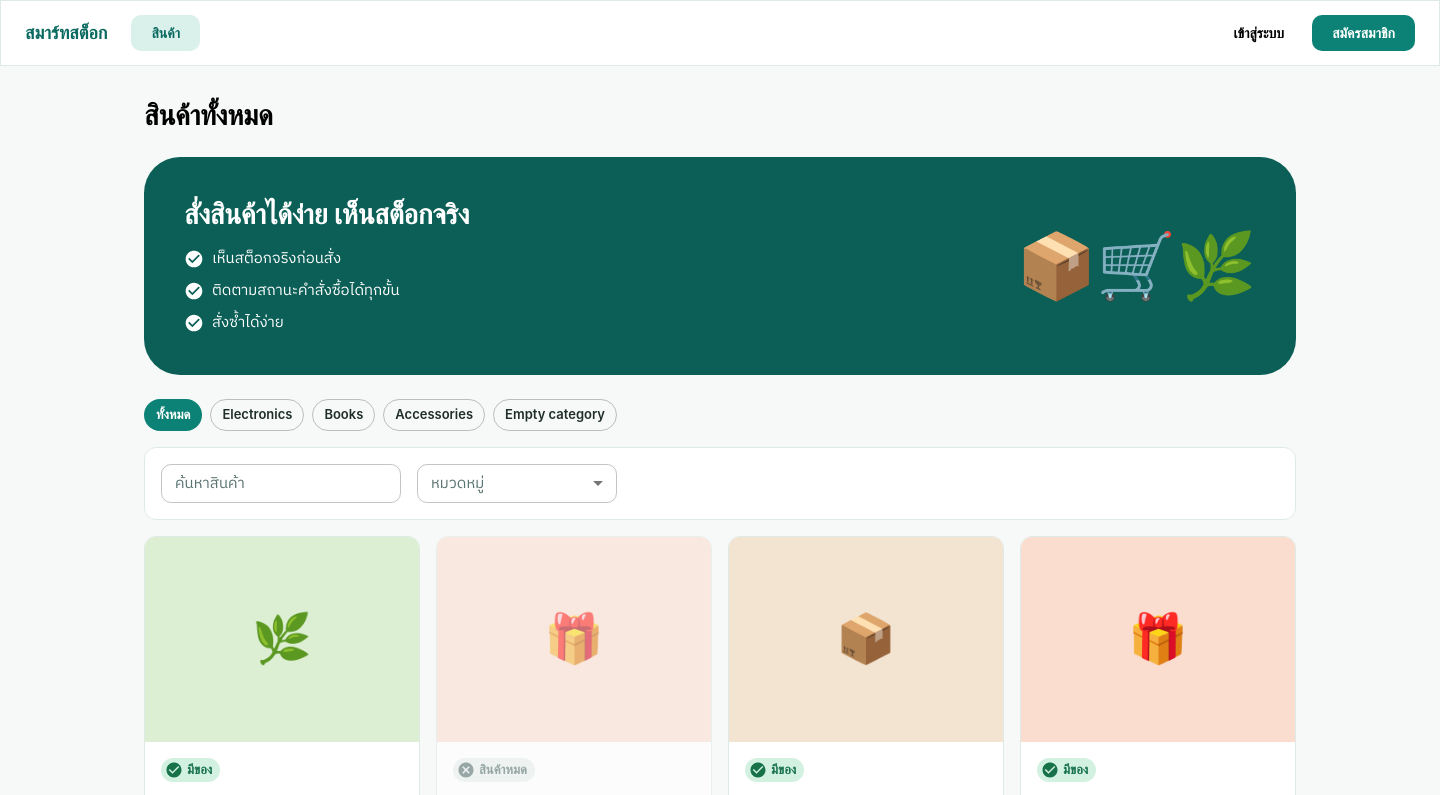
search resets the page to 1 and writes q to the URL
This screenshot has width=1440, height=795.
Type "mouse" into the field labelled "ค้นหาสินค้า". click: point(281, 484)
box: [161,464,401,503]
(page scrolled)
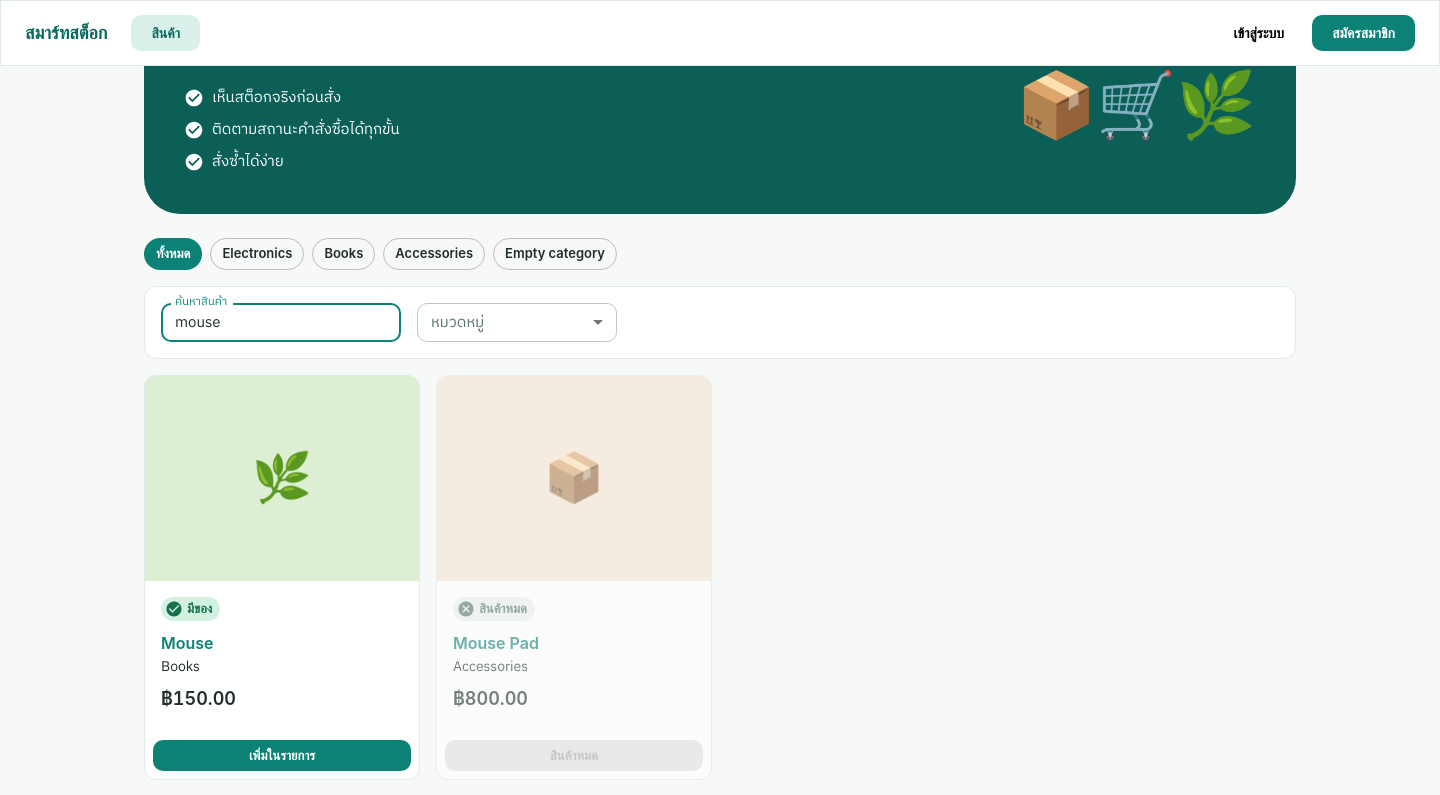
Expected: the link "Mouse Pad" is shown, [453,633,539,653]
